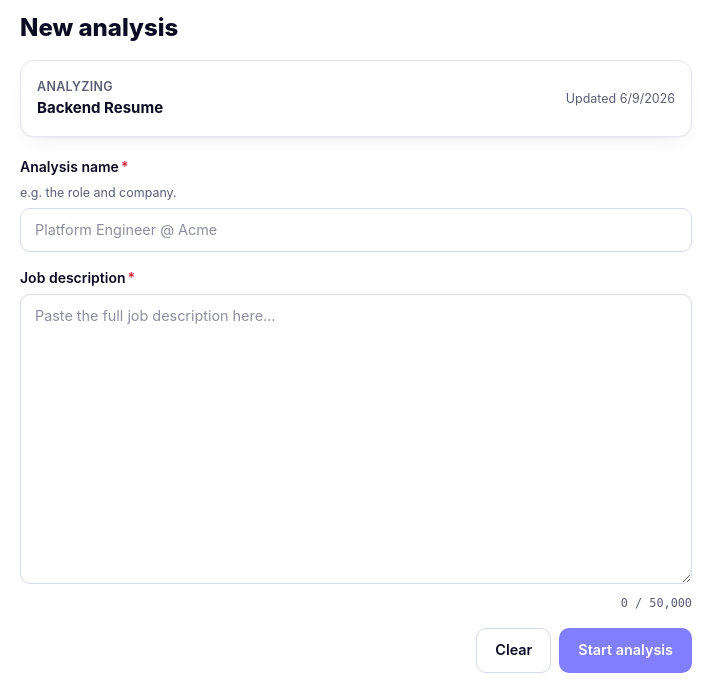
analysis start screen (issue #72 / 8.8) › Clear wipes exactly the two fields; resume context untouched
The image size is (713, 694).
Expected: the text "Backend Resume" is shown, [37, 96, 163, 120]
Type "X" into the field labelled "Analysis name*".
click(356, 230); type("X")  # box [20, 208, 692, 252]
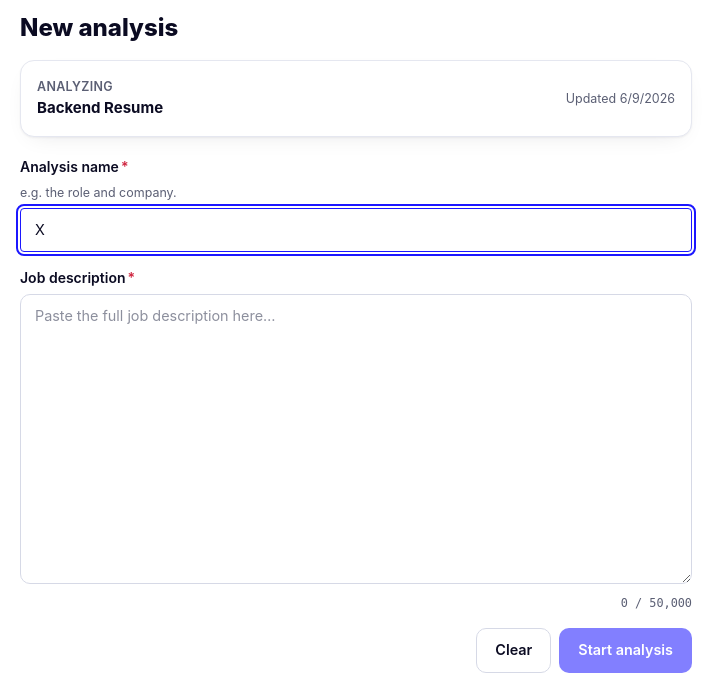
Type "some jd content here" into the text box labelled "Job description*".
click(356, 439); type("some jd content here")  # box [20, 294, 692, 584]
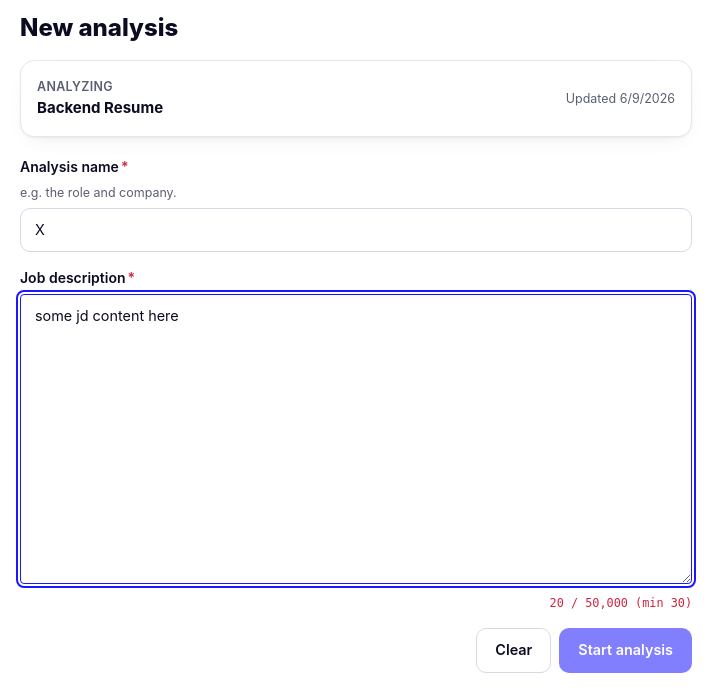
Click the button "Clear".
click(514, 651)  # box [476, 628, 551, 673]
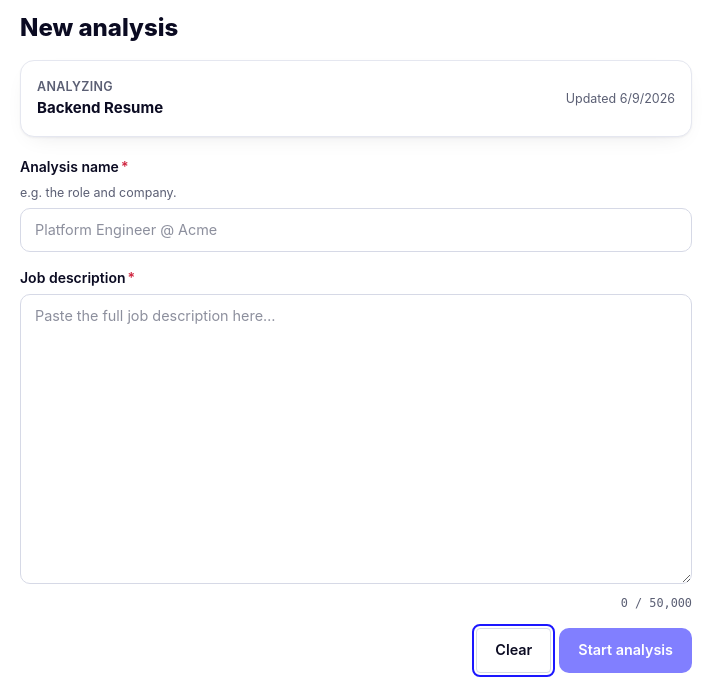
Expected: the text "Backend Resume" is shown, [37, 96, 163, 120]
Expected: the field labelled "Analysis name*" is empty, [20, 208, 692, 252]
Expected: the text box labelled "Job description*" is empty, [20, 294, 692, 584]
